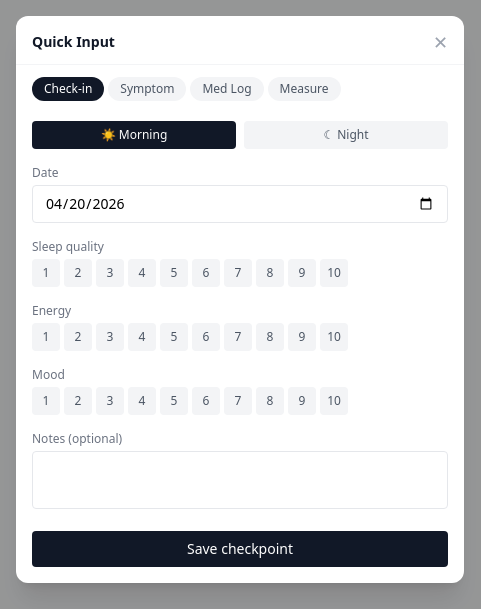
Test case: Quick Input — Symptom started_at collapsible (Q1) › collapses back when clicking "use now"
The width and height of the screenshot is (481, 609).
Click the button "Symptom" at (147, 88), box [108,76,186,100]
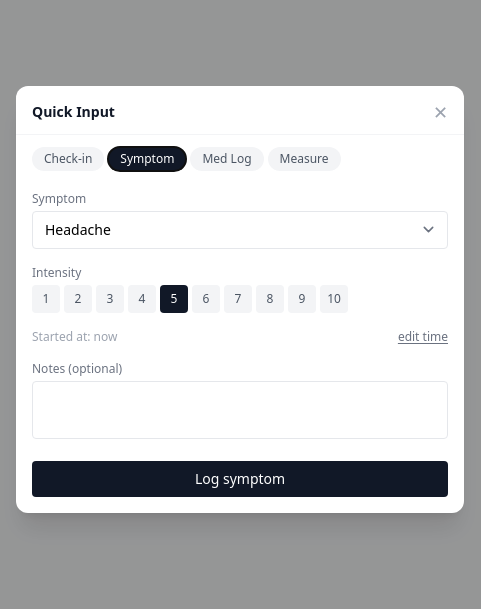
Click the button "edit time" at (423, 336), box [398,328,448,344]
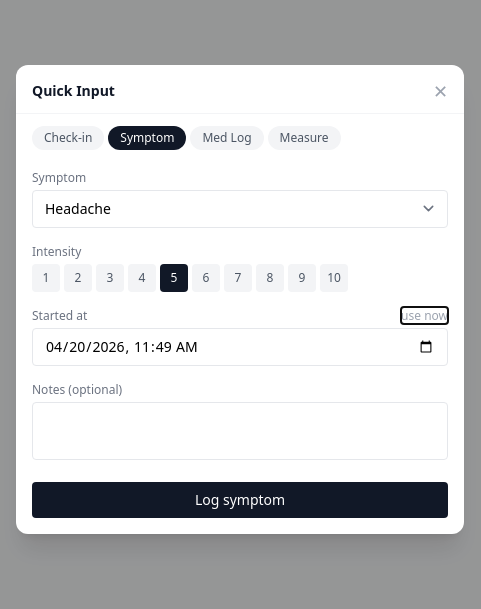
Click the button "use now" at (425, 316), box [401,308,448,324]
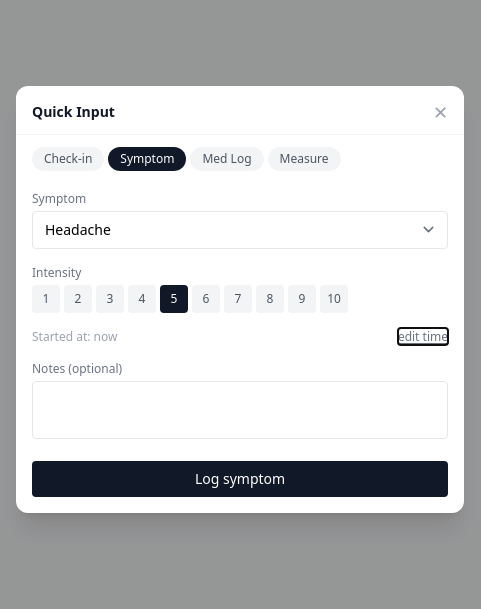
Expected: the button "edit time" is shown, [398,328,448,344]
